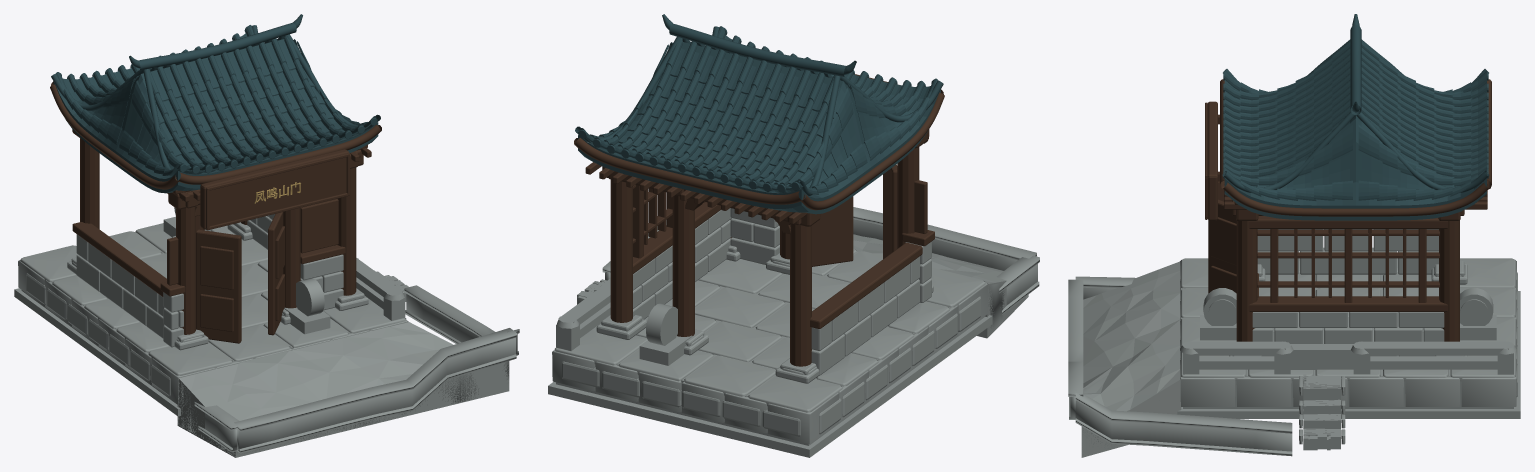
File: gate-h36.glb
3 renders of one model, left to right at view 1: azimuth 30°, elevation 25°; view 2: azimuth 150°, elevation 25°; view 3: azimuth 270°, elevation 25°, orthographic. The views are drawn at different scales.
Visible parts, largest first — view 1: H36_FIXED_035_exact_steps_platform, H36_Short_overlapping_pan_and_cover_clay_tiles, H36_Continuous_bedrock_plinth_to_slope, H36_Thick_recessed_name_board, H36_Solid_curved_roof_mass, H36_Door_leaf, H36_Load_bearing_column.001, H36_West_wall_cap, H36_Load_bearing_column.005, H36_Front_wing_timber_infill, H36_Curved_ceramic_main_ridge, H36_Load_bearing_column (+16 smaller); view 2: H36_FIXED_035_exact_steps_platform, H36_Short_overlapping_pan_and_cover_clay_tiles, H36_Solid_curved_roof_mass, H36_Load_bearing_column.004, H36_Load_bearing_column, H36_Load_bearing_column.002, H36_West_wall_cap, H36_Thick_curved_eave_fascia, H36_Door_leaf.001, H36_Curved_ceramic_main_ridge, H36_Continuous_bedrock_plinth_to_slope, H36_Load_bearing_column.001 (+32 smaller); view 3: H36_FIXED_035_exact_steps_platform, H36_Short_overlapping_pan_and_cover_clay_tiles, H36_Continuous_bedrock_plinth_to_slope, H36_Solid_curved_roof_mass, H36_East_window_sill, H36_Gable_curved_fascia.001, H36_Load_bearing_column.005, H36_Load_bearing_column.004, H36_East_window_header, H36_Thick_recessed_name_board, H36_Door_upper_panel.001, H36_Side_lattice_horizontal.001 (+24 smaller).
Part boxes in pixels (<box>): H36_FIXED_035_exact_steps_platform: <box>14,207,519,456</box>; H36_Short_overlapping_pan_and_cover_clay_tiles: <box>56,25,376,175</box>; H36_Continuous_bedrock_plinth_to_slope: <box>177,321,509,457</box>; H36_Thick_recessed_name_board: <box>200,149,349,229</box>; H36_Solid_curved_roof_mass: <box>53,39,378,193</box>; H36_Door_leaf: <box>196,229,241,343</box>; H36_Load_bearing_column.001: <box>176,207,195,334</box>; H36_West_wall_cap: <box>72,222,166,296</box>; H36_Load_bearing_column.005: <box>337,167,356,295</box>; H36_Front_wing_timber_infill: <box>300,199,338,253</box>; H36_Curved_ceramic_main_ridge: <box>136,22,296,70</box>; H36_Load_bearing_column: <box>80,138,99,229</box>; H36_FIXED_035_exact_steps_platform: <box>548,207,1039,457</box>; H36_Short_overlapping_pan_and_cover_clay_tiles: <box>580,26,938,194</box>; H36_Solid_curved_roof_mass: <box>578,42,940,214</box>; H36_Load_bearing_column.004: <box>610,179,632,322</box>; H36_Load_bearing_column: <box>790,223,811,366</box>; H36_Load_bearing_column.002: <box>672,195,694,336</box>; H36_West_wall_cap: <box>810,242,922,328</box>; H36_Thick_curved_eave_fascia: <box>575,138,804,204</box>; H36_Door_leaf.001: <box>812,196,853,266</box>; H36_Curved_ceramic_main_ridge: <box>669,24,848,77</box>; H36_Continuous_bedrock_plinth_to_slope: <box>853,234,1028,338</box>; H36_Load_bearing_column.001: <box>897,147,919,248</box>; H36_FIXED_035_exact_steps_platform: <box>1068,258,1520,456</box>; H36_Short_overlapping_pan_and_cover_clay_tiles: <box>1224,41,1486,201</box>; H36_Continuous_bedrock_plinth_to_slope: <box>1081,261,1181,457</box>; H36_Solid_curved_roof_mass: <box>1224,116,1486,220</box>; H36_East_window_sill: <box>1248,296,1447,311</box>; H36_Gable_curved_fascia.001: <box>1222,182,1489,216</box>; H36_Load_bearing_column.005: <box>1236,220,1257,341</box>; H36_Load_bearing_column.004: <box>1439,220,1459,341</box>; H36_East_window_header: <box>1248,216,1447,228</box>; H36_Thick_recessed_name_board: <box>1207,101,1217,220</box>; H36_Door_upper_panel.001: <box>1211,217,1236,265</box>; H36_Side_lattice_horizontal.001: <box>1257,252,1439,258</box>.
Bounding box in the file's own units: 4.79 × 4.66 × 6.04.
